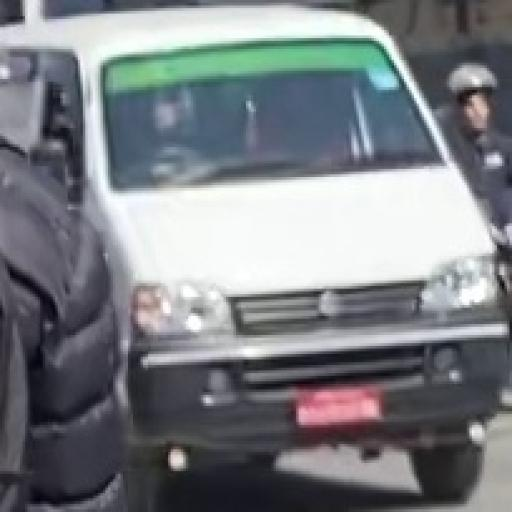license_plate: (289, 384, 393, 428)
